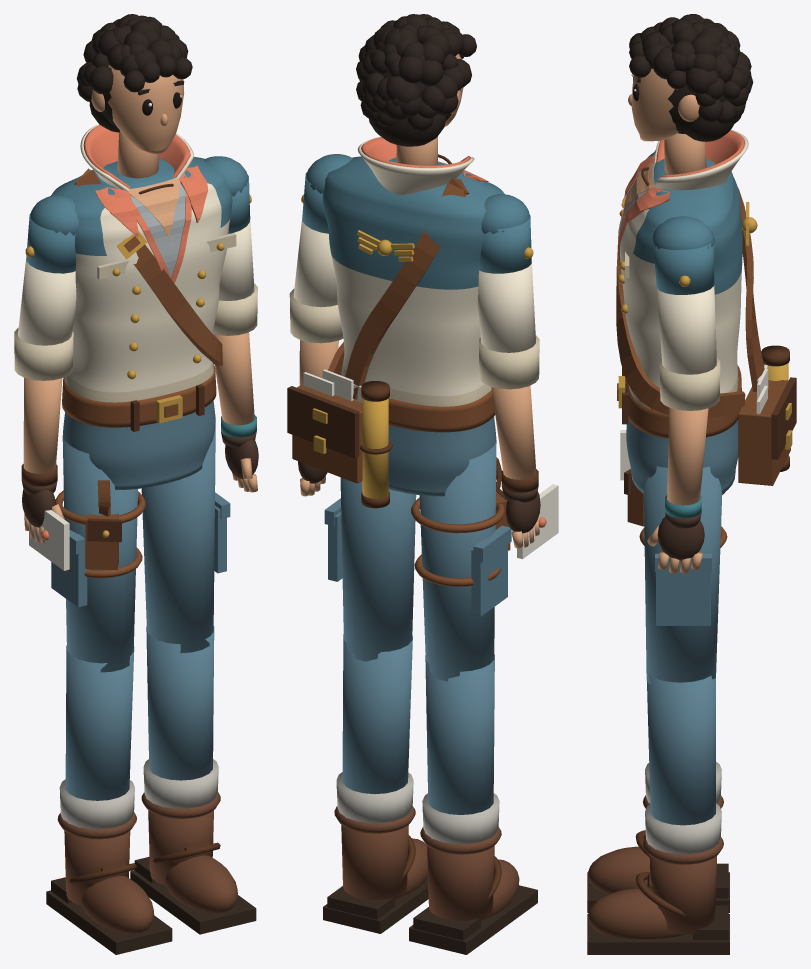
The model's file is courier-head-profile.glb.
3 views of the same model, side by side, from view 1: azimuth 30°, elevation 25°; view 2: azimuth 150°, elevation 25°; view 3: azimuth 270°, elevation 25° (orthographic). The views are drawn at different scales.
Parts seen in each view (by area): view 1: body_mesh, kneeR_mesh, kneeL_mesh, legR_mesh, legL_mesh, head_mesh, armR_mesh, elbowR_mesh, elbowL_mesh, armL_mesh, handL_mesh, handR_mesh (+1 smaller); view 2: body_mesh, kneeR_mesh, kneeL_mesh, legR_mesh, head_mesh, legL_mesh, armR_mesh, elbowR_mesh, armL_mesh, elbowL_mesh, handR_mesh, letter_mesh (+1 smaller); view 3: body_mesh, kneeL_mesh, head_mesh, legL_mesh, armL_mesh, elbowL_mesh, kneeR_mesh, handL_mesh, legR_mesh.
Boxes of the visible parts, bbox=[...] form: body_mesh: bbox=[51, 124, 236, 489]; kneeR_mesh: bbox=[46, 645, 172, 954]; kneeL_mesh: bbox=[130, 626, 256, 934]; legR_mesh: bbox=[51, 435, 146, 672]; legL_mesh: bbox=[141, 417, 230, 653]; head_mesh: bbox=[76, 14, 192, 178]; armR_mesh: bbox=[18, 195, 79, 345]; elbowR_mesh: bbox=[14, 327, 73, 473]; elbowL_mesh: bbox=[212, 283, 257, 425]; armL_mesh: bbox=[204, 156, 254, 301]; handL_mesh: bbox=[221, 415, 258, 492]; handR_mesh: bbox=[21, 464, 64, 542]; body_mesh: bbox=[287, 136, 504, 508]; kneeR_mesh: bbox=[409, 654, 537, 954]; kneeL_mesh: bbox=[323, 634, 428, 933]; legR_mesh: bbox=[411, 440, 511, 681]; head_mesh: bbox=[356, 14, 476, 165]; legL_mesh: bbox=[324, 477, 416, 661]; armR_mesh: bbox=[477, 194, 535, 352]; elbowR_mesh: bbox=[479, 335, 539, 479]; armL_mesh: bbox=[293, 154, 352, 307]; elbowL_mesh: bbox=[289, 289, 343, 385]; handR_mesh: bbox=[501, 469, 540, 548]; letter_mesh: bbox=[517, 484, 558, 559]; body_mesh: bbox=[616, 129, 796, 493]; kneeL_mesh: bbox=[587, 673, 729, 954]; head_mesh: bbox=[628, 14, 753, 174]; legL_mesh: bbox=[644, 466, 722, 684]; armL_mesh: bbox=[652, 216, 716, 374]; elbowL_mesh: bbox=[659, 357, 720, 505]; kneeR_mesh: bbox=[587, 762, 729, 912]; handL_mesh: bbox=[647, 495, 704, 573]; legR_mesh: bbox=[624, 469, 727, 547].
Bounding box in the file's own units: 0.508 × 1.81 × 0.3812.
